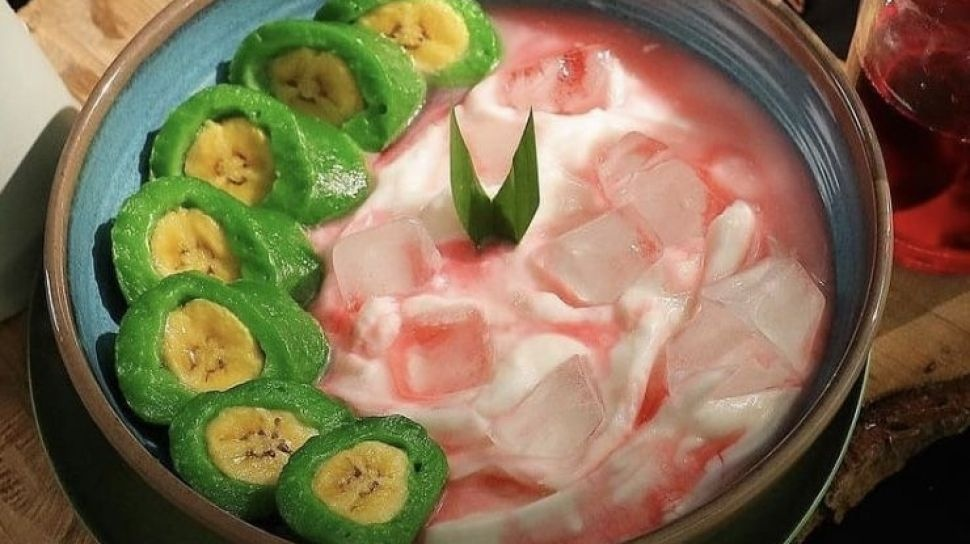pisang_ijo: (135, 276, 315, 404), (284, 428, 448, 538)
